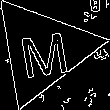M_N: (15, 21, 71, 79)
